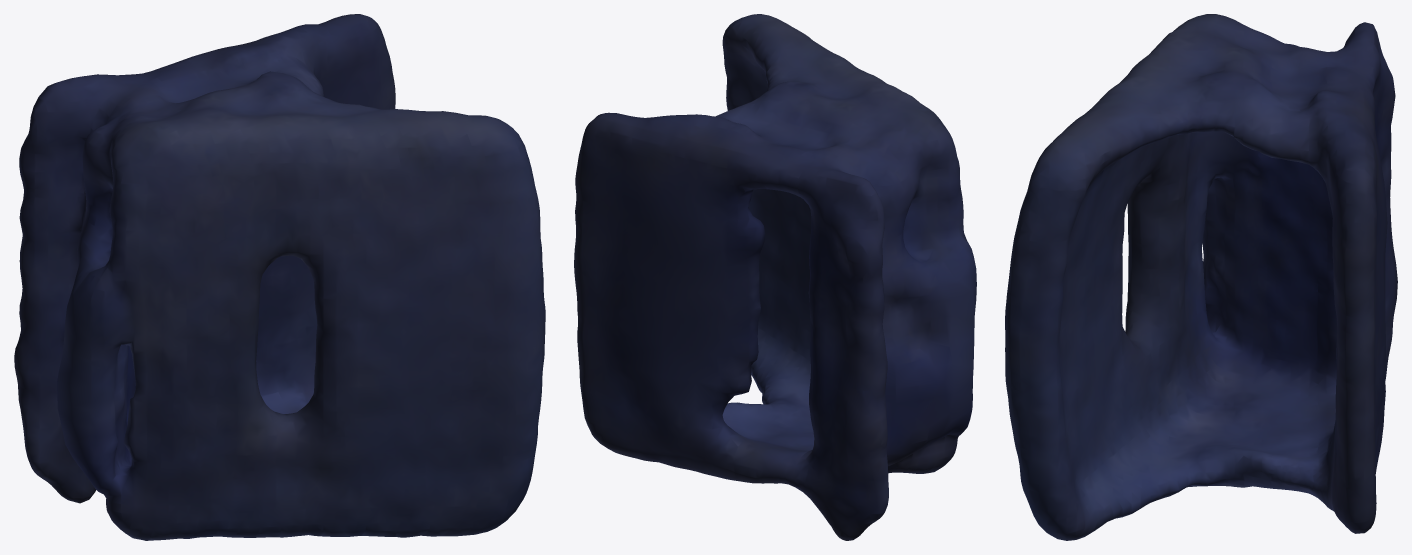
3 views of the same model, side by side, from view 1: azimuth 30°, elevation 25°; view 2: azimuth 150°, elevation 25°; view 3: azimuth 270°, elevation 25° (orthographic). The views are drawn at different scales.
Size of the model in its own units: 0.1009 by 0.1085 by 0.0908.
